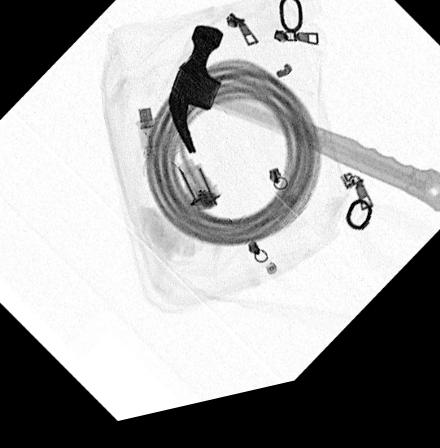Hammer: (166, 34, 440, 234)
